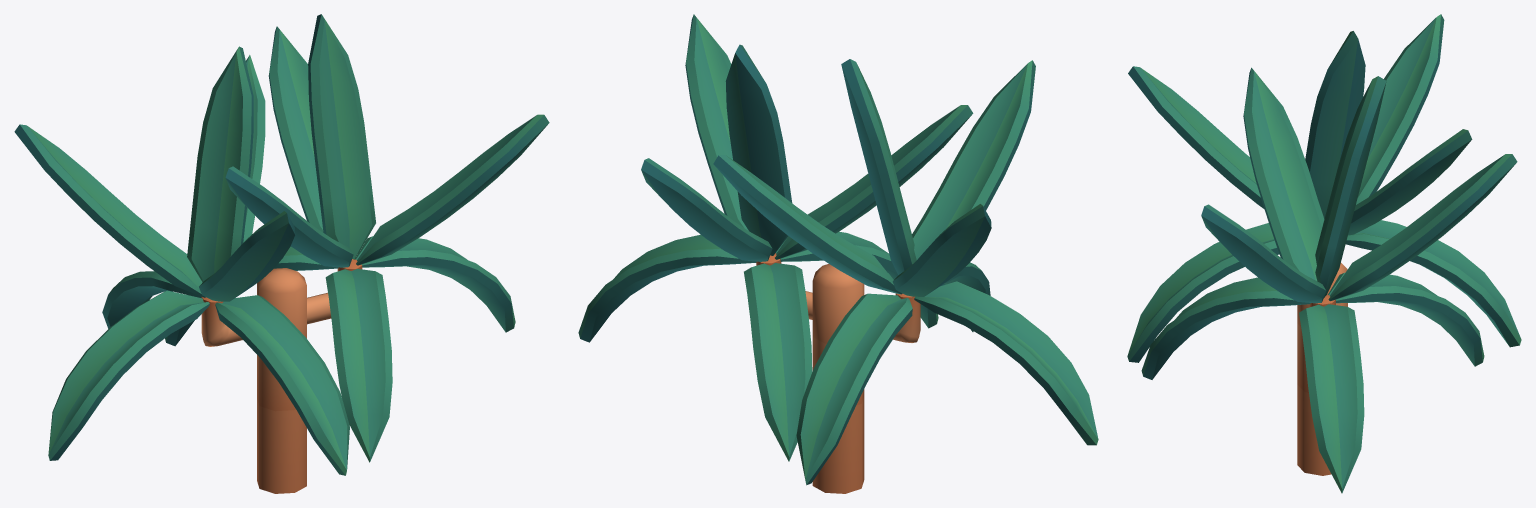
Rendered from house_plants_plants_large_yucca.glb.
3 views of the same model, side by side, from view 1: azimuth 30°, elevation 25°; view 2: azimuth 150°, elevation 25°; view 3: azimuth 270°, elevation 25° (orthographic). The views are drawn at different scales.
Visible parts, largest first — view 1: yucca_branch_large_A; view 2: yucca_branch_large_A; view 3: yucca_branch_large_A.
Boxes of the visible parts, x1,y1,x2,y2 form: yucca_branch_large_A: [14, 14, 549, 493]; yucca_branch_large_A: [578, 14, 1098, 493]; yucca_branch_large_A: [1127, 14, 1521, 493].
Bounding box in the file's own units: 1.52 × 1.29 × 1.09.
1 material, 1 textured.
